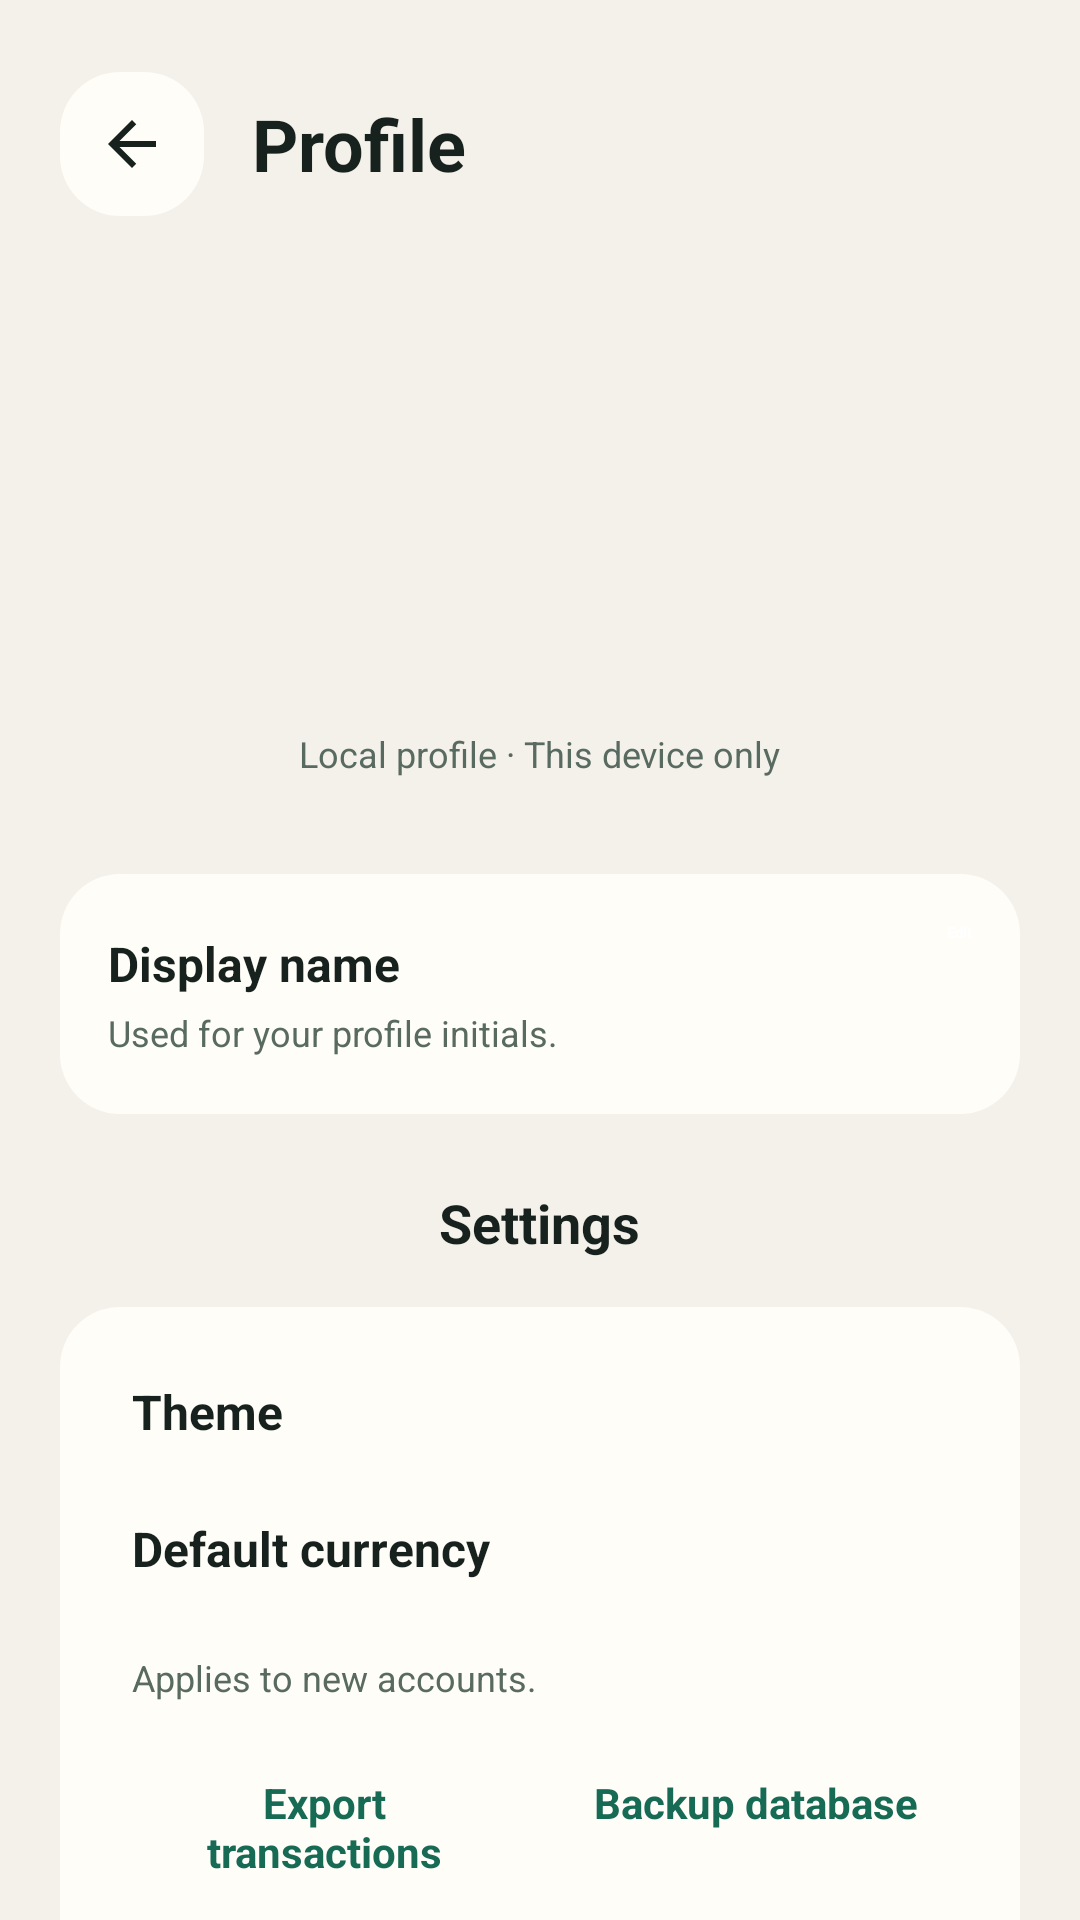

Icon click points for this 1080px×1920px phone screenshot, format [x,y]:
Back: [132,144]
